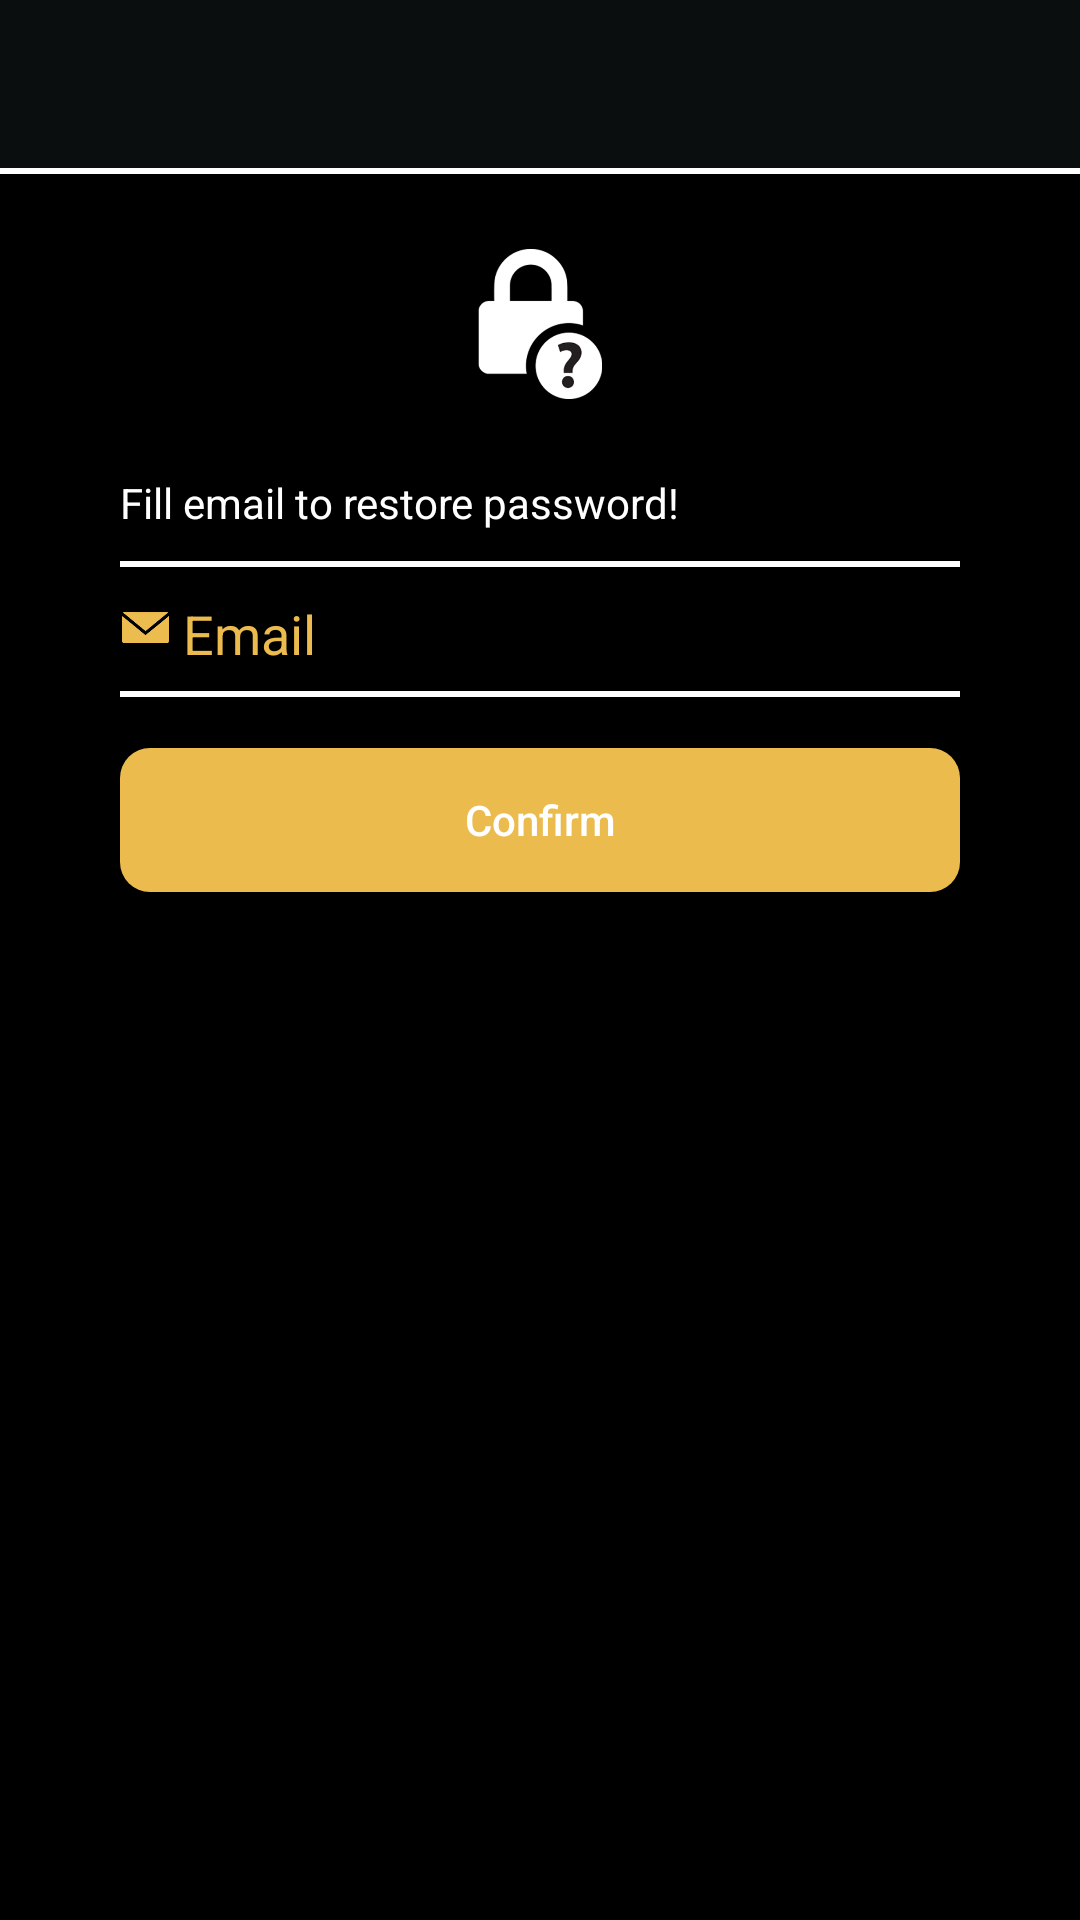

Point at icon controls on the screen. Image size 1080 x 1920, points as [x,y].
forgot: [540,324]
